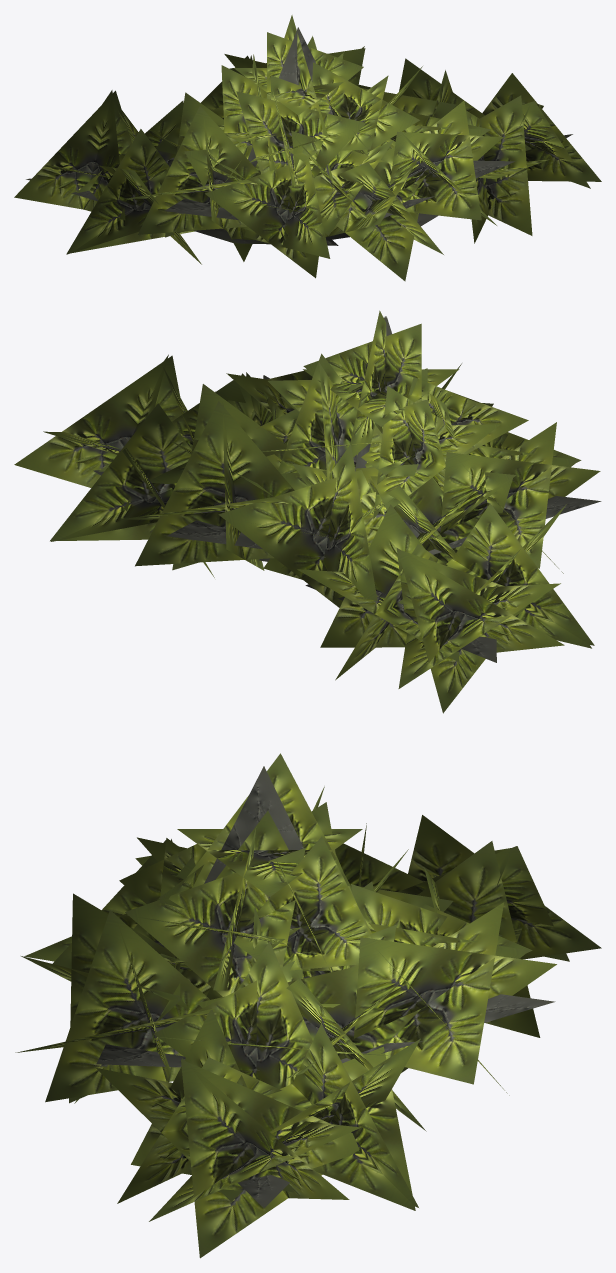
The model's file is BushSmall02.FBX.
3 views of the same model, one above another, from view 1: azimuth 30°, elevation 25°; view 2: azimuth 150°, elevation 25°; view 3: azimuth 270°, elevation 25° (orthographic). The views are drawn at different scales.
Visible parts, largest first — view 1: Bush_LOD0; view 2: Bush_LOD0; view 3: Bush_LOD0.
Boxes of the visible parts, <box> form: Bush_LOD0: <box>14,15,601,281</box>; Bush_LOD0: <box>14,310,601,713</box>; Bush_LOD0: <box>15,753,601,1258</box>.
Size of what is drawn, in the model's own units: 284 by 128 by 205.
